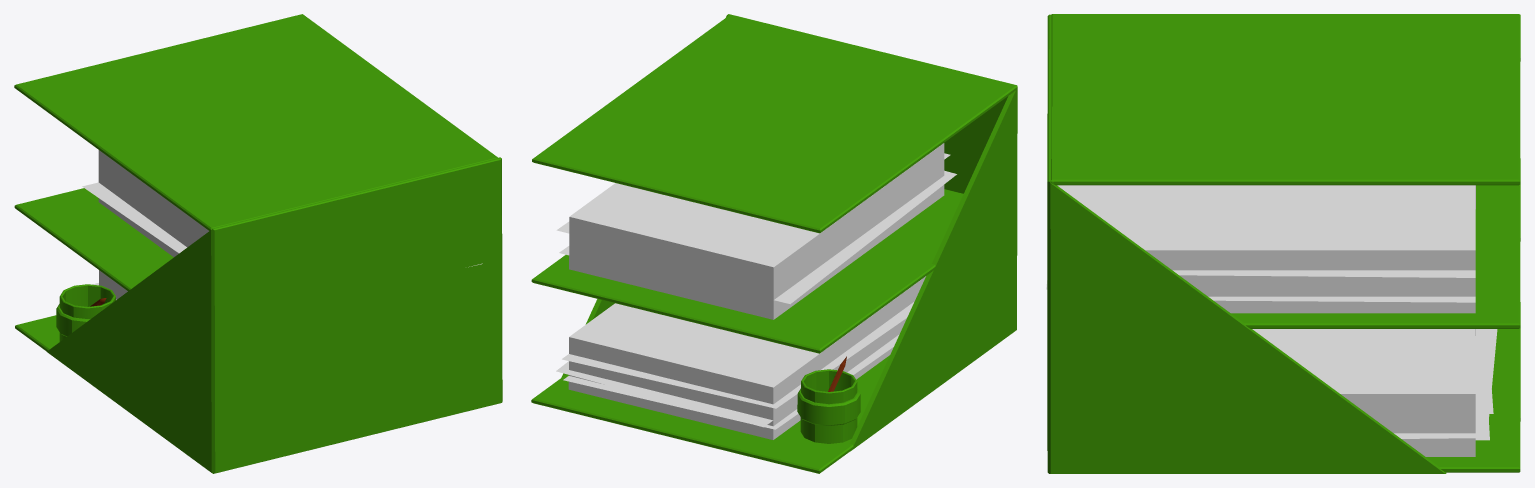
The model's file is Office_Top_Prop.fbx.
3 views of the same model, side by side, from view 1: azimuth 30°, elevation 25°; view 2: azimuth 150°, elevation 25°; view 3: azimuth 270°, elevation 25° (orthographic). The views are drawn at different scales.
Visible parts, largest first — view 1: Table_Top_Prop; view 2: Table_Top_Prop; view 3: Table_Top_Prop.
Part boxes in pixels (x1,y1,x2,y2): Table_Top_Prop: (14,14,502,473); Table_Top_Prop: (531,14,1017,473); Table_Top_Prop: (1046,14,1520,473).
Size of the model in its own units: 0.5074 by 0.4094 by 0.5993.
